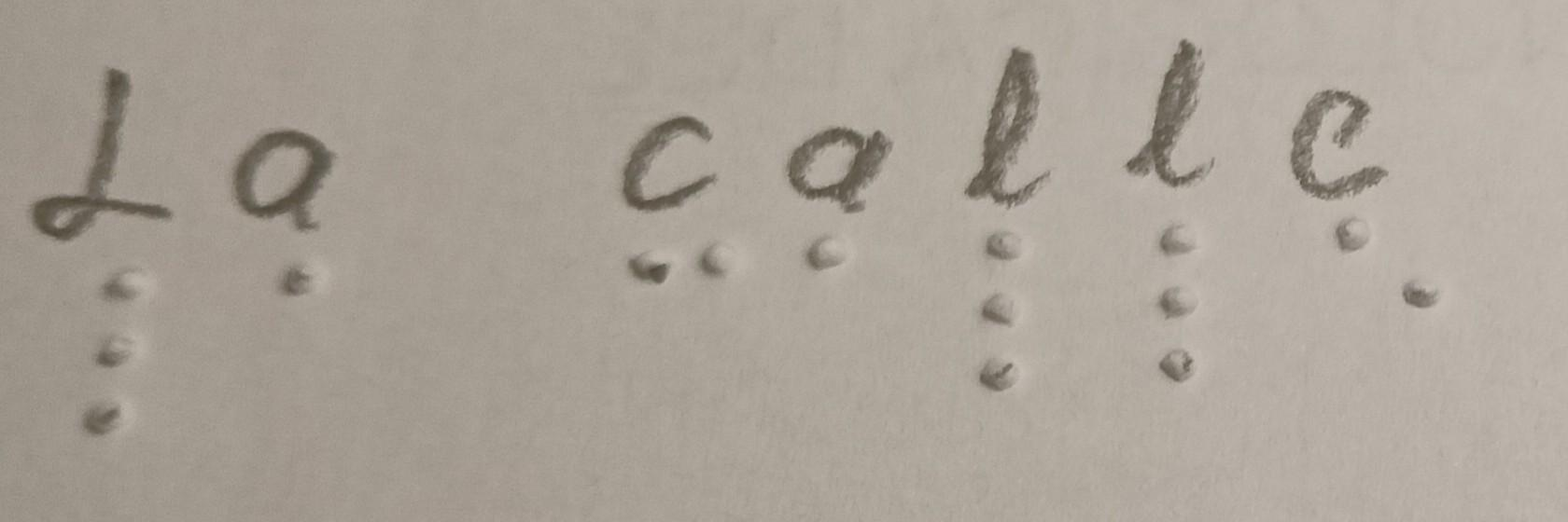a: (245, 244, 366, 330), (763, 226, 900, 298)
c: (592, 233, 762, 324)
e: (1297, 207, 1458, 324)
l: (1107, 203, 1232, 399), (69, 252, 175, 449), (956, 214, 1057, 410)
